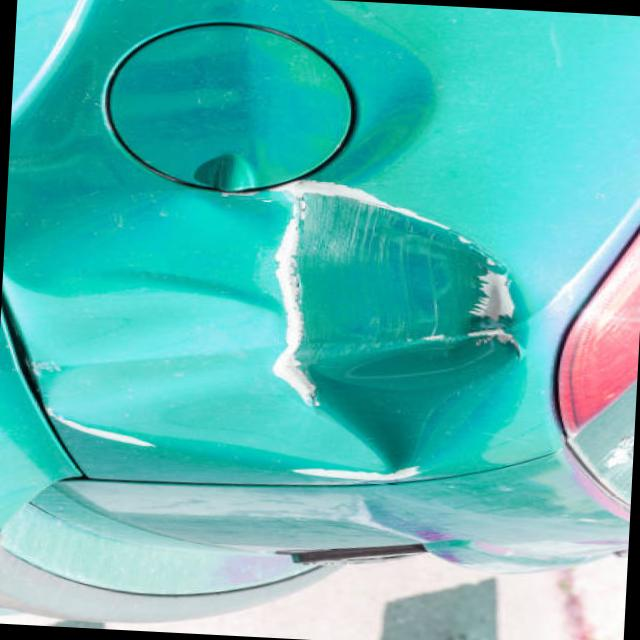Dent: (3, 281, 395, 474), (273, 193, 520, 472), (227, 0, 438, 186)
Scratch: (272, 206, 317, 405), (278, 184, 451, 228), (466, 265, 521, 358), (292, 466, 427, 484), (60, 421, 154, 445)
